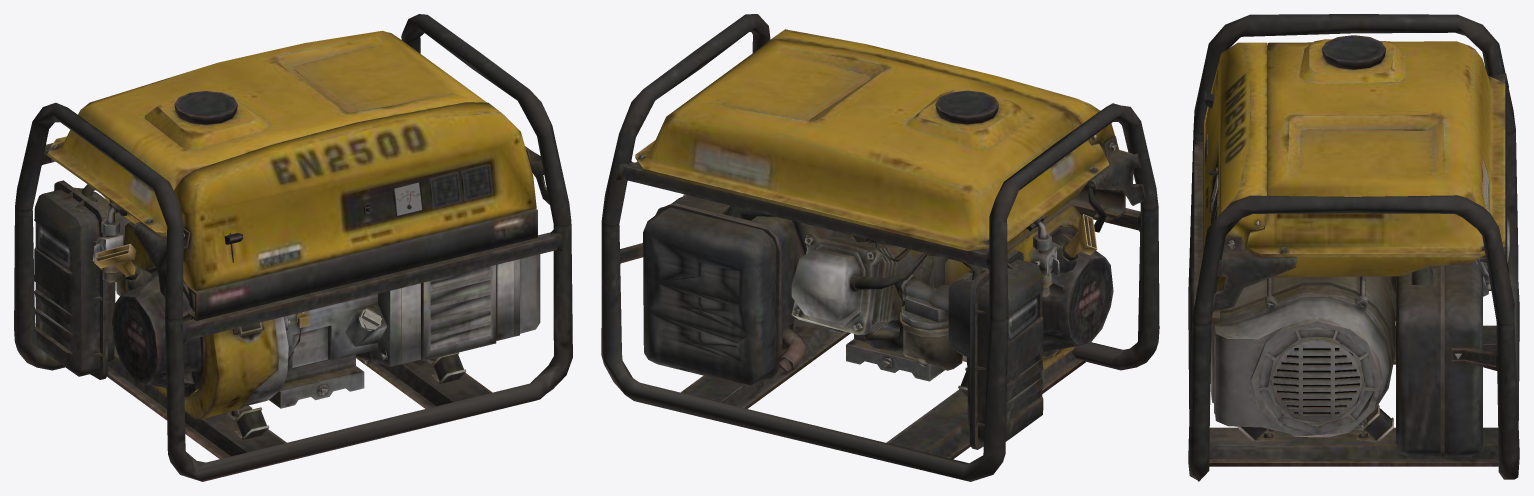
Rendered from portable_generator.glb.
The picture shows the model from 3 angles, left to right: view 1: azimuth 30°, elevation 25°; view 2: azimuth 150°, elevation 25°; view 3: azimuth 270°, elevation 25°; orthographic projection.
Parts seen in each view (by area): view 1: portable_generator; view 2: portable_generator; view 3: portable_generator.
Boxes of the visible parts, box(x1,y1,x2,y2) form: portable_generator: box(14, 14, 572, 481); portable_generator: box(601, 14, 1159, 481); portable_generator: box(1188, 14, 1519, 481).
Bounding box in the file's own units: 0.8166 × 0.5753 × 0.564.
2 materials, 2 textured.
